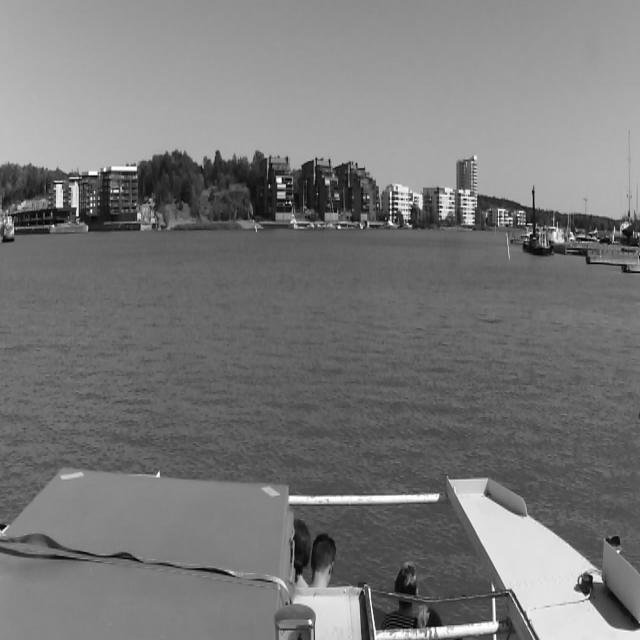buoy: (252, 216, 258, 236)
ship: (522, 233, 554, 254), (1, 218, 13, 242)
